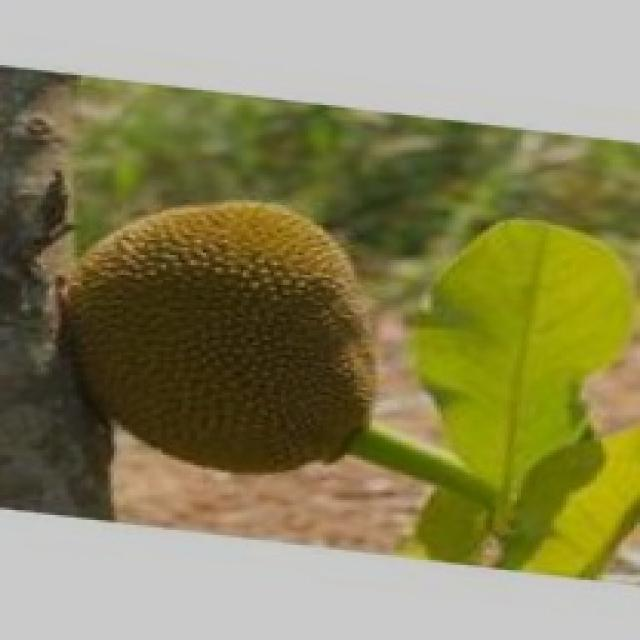Fruit: (31, 175, 403, 493)
